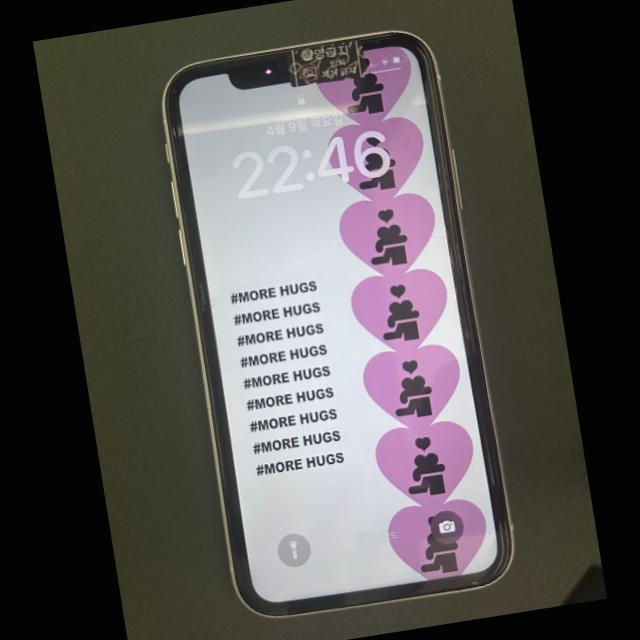phone: (158, 28, 513, 617)
sticker: (285, 42, 367, 87)
